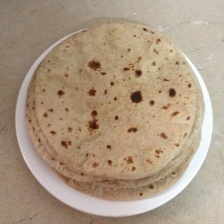roti: (22, 23, 203, 199)
